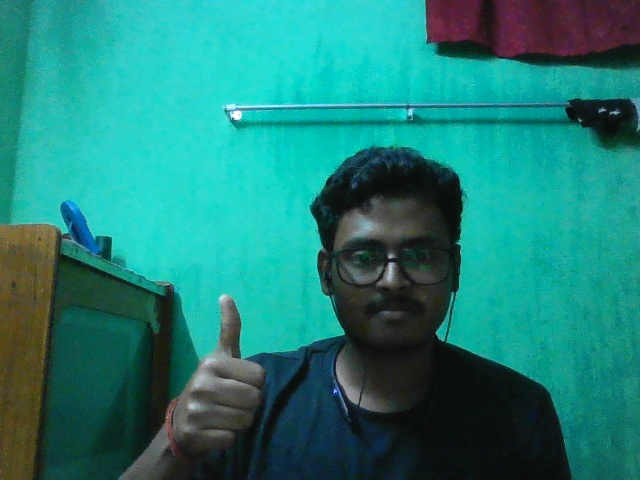ThumbsUp: (165, 288, 269, 459)
